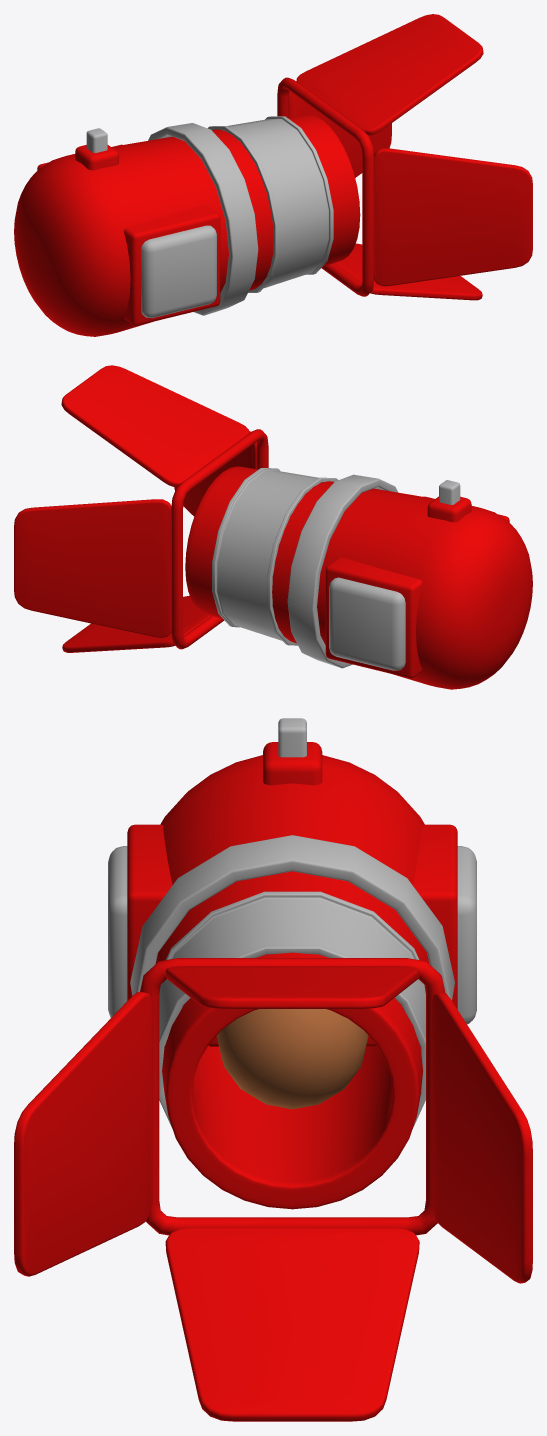
File: projo statique corps.fbx
3 views of the same model, one above another, from view 1: azimuth 30°, elevation 25°; view 2: azimuth 150°, elevation 25°; view 3: azimuth 270°, elevation 25° (orthographic). The views are drawn at different scales.
Parts seen in each view (by area): view 1: Cube.023; view 2: Cube.023; view 3: Cube.023.
Boxes of the visible parts, bbox=[...] form: Cube.023: bbox=[14, 14, 532, 336]; Cube.023: bbox=[14, 365, 532, 689]; Cube.023: bbox=[14, 718, 532, 1421].
Size of the model in its own units: 67.32 by 38.08 by 42.27.
